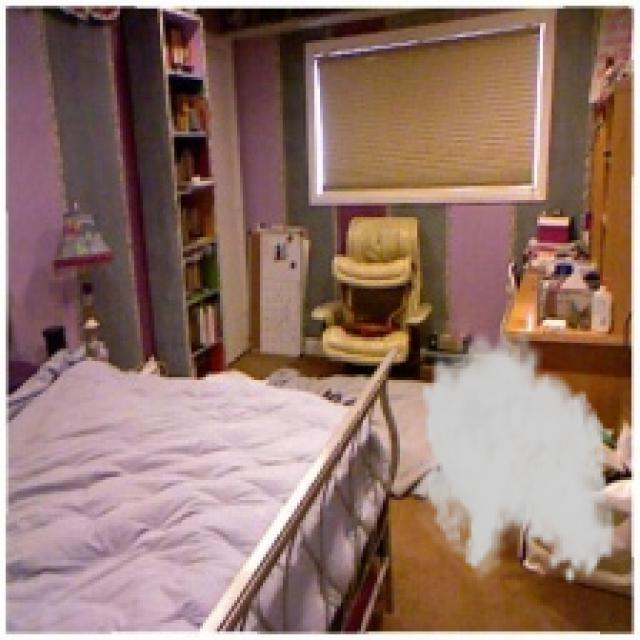Smoke: (408, 320, 618, 586)
